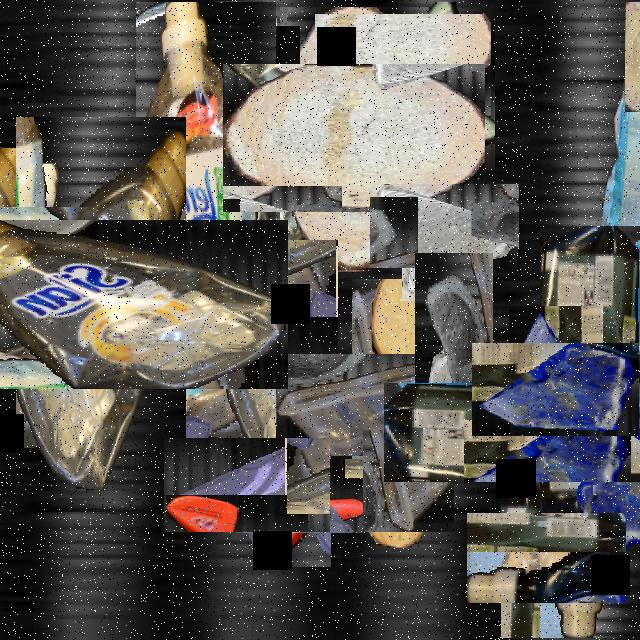glass: (182, 420, 312, 551), (491, 324, 621, 455), (484, 496, 608, 620), (386, 168, 502, 284), (415, 253, 493, 391)
metal: (202, 14, 288, 100), (611, 466, 640, 514)
plastic: (0, 168, 237, 439), (136, 2, 276, 446), (462, 303, 640, 560), (92, 201, 300, 411), (314, 317, 492, 494), (321, 8, 489, 177), (602, 62, 640, 372), (240, 442, 348, 550), (0, 177, 68, 274), (598, 327, 640, 452), (0, 160, 28, 295)
wood: (251, 36, 457, 241), (363, 430, 433, 548), (625, 2, 640, 112)
